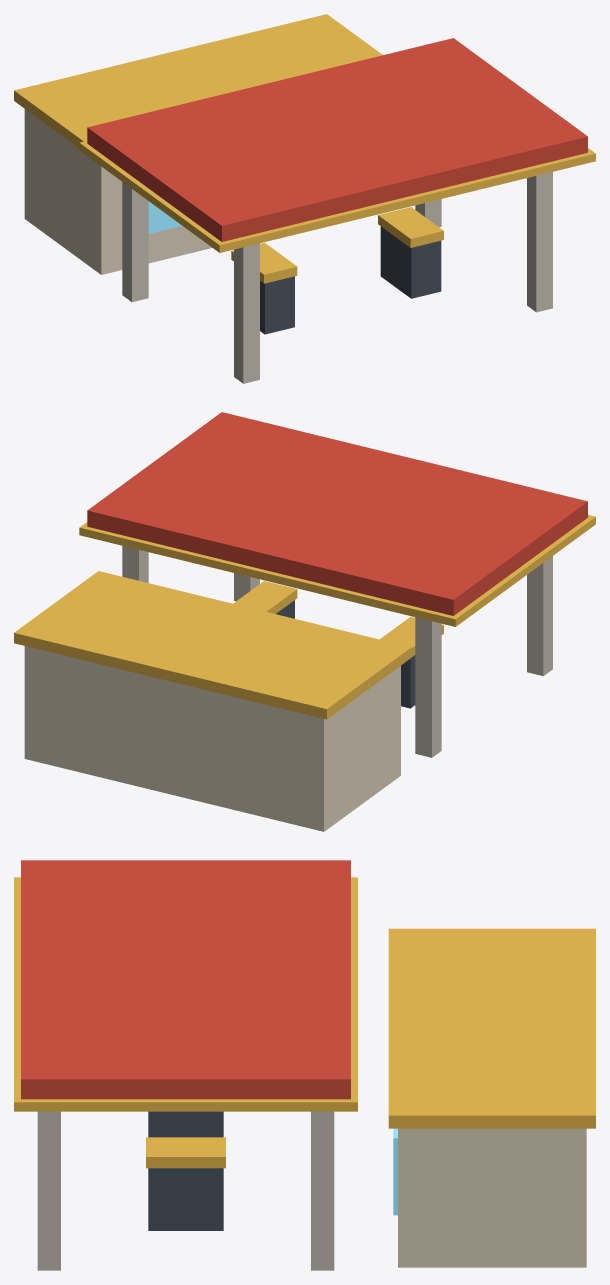
File: gas-station.gltf
3 views of the same model, one above another, from view 1: azimuth 30°, elevation 25°; view 2: azimuth 150°, elevation 25°; view 3: azimuth 270°, elevation 25° (orthographic). The views are drawn at different scales.
Visible parts, largest first — view 1: gas-station; view 2: gas-station; view 3: gas-station.
Boxes of the visible parts, x1,y1,x2,y2 form: gas-station: (14, 14, 595, 383); gas-station: (14, 412, 595, 831); gas-station: (14, 860, 595, 1270).
Bounding box in the file's own units: 11.3 × 4.88 × 12.35.
